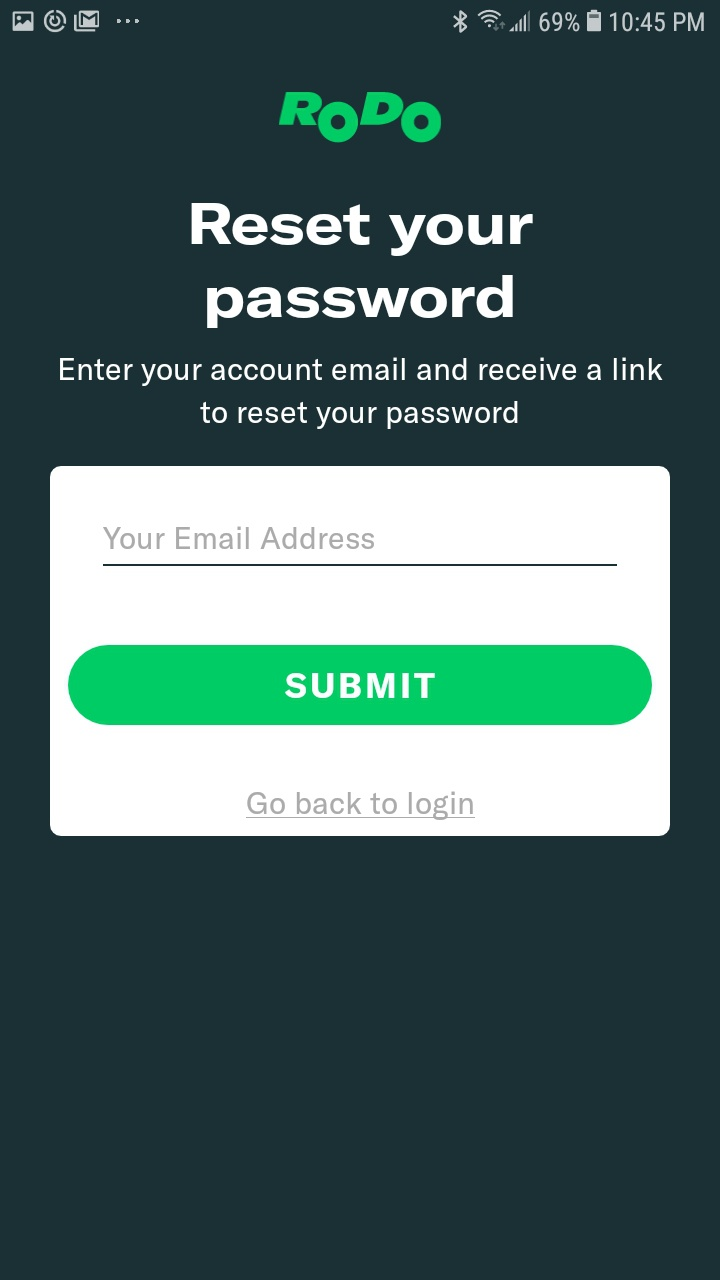EditText: (103, 526, 618, 567)
Image: (279, 92, 442, 144)
Text: (60, 357, 663, 431), (191, 203, 534, 329), (246, 791, 476, 821), (104, 526, 375, 550)
TextButton: (68, 645, 653, 726)
UpperTaskBar: (1, 1, 720, 35)
